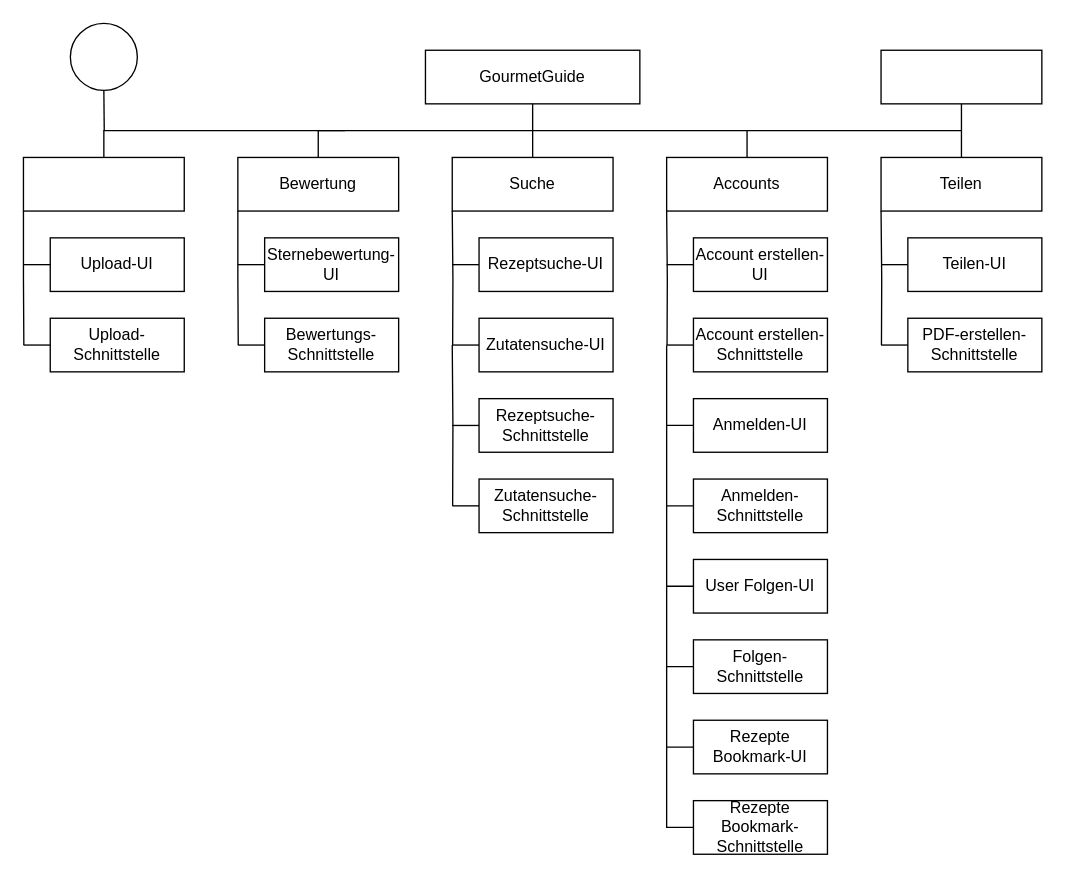
This 1065x879 diagram has some shape labels left out. The shapes that lost their labels are listed below. From the top down, each one's centre as x and y in pixels, then its label:
pixel 103 56: Logo
pixel 961 76: Datenbank
pixel 103 183: Hochladen
